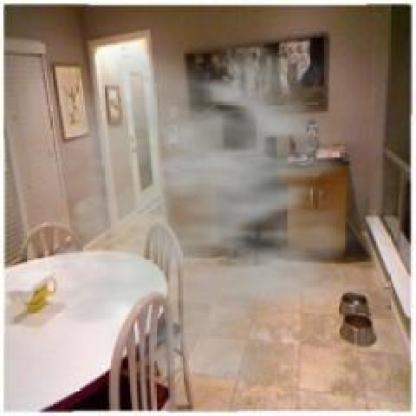Smoke: (8, 23, 373, 383)
